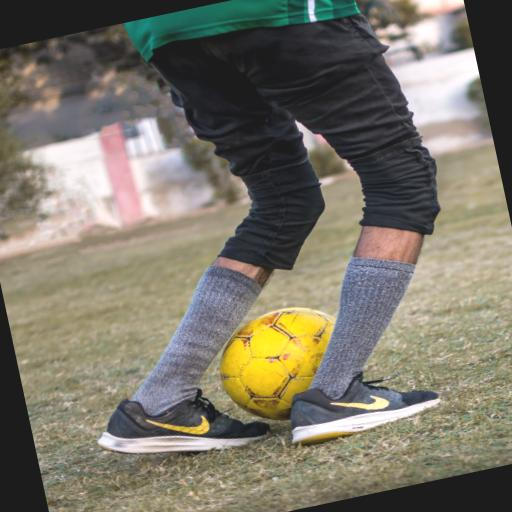shoe: (99, 390, 269, 454), (291, 373, 440, 444)
